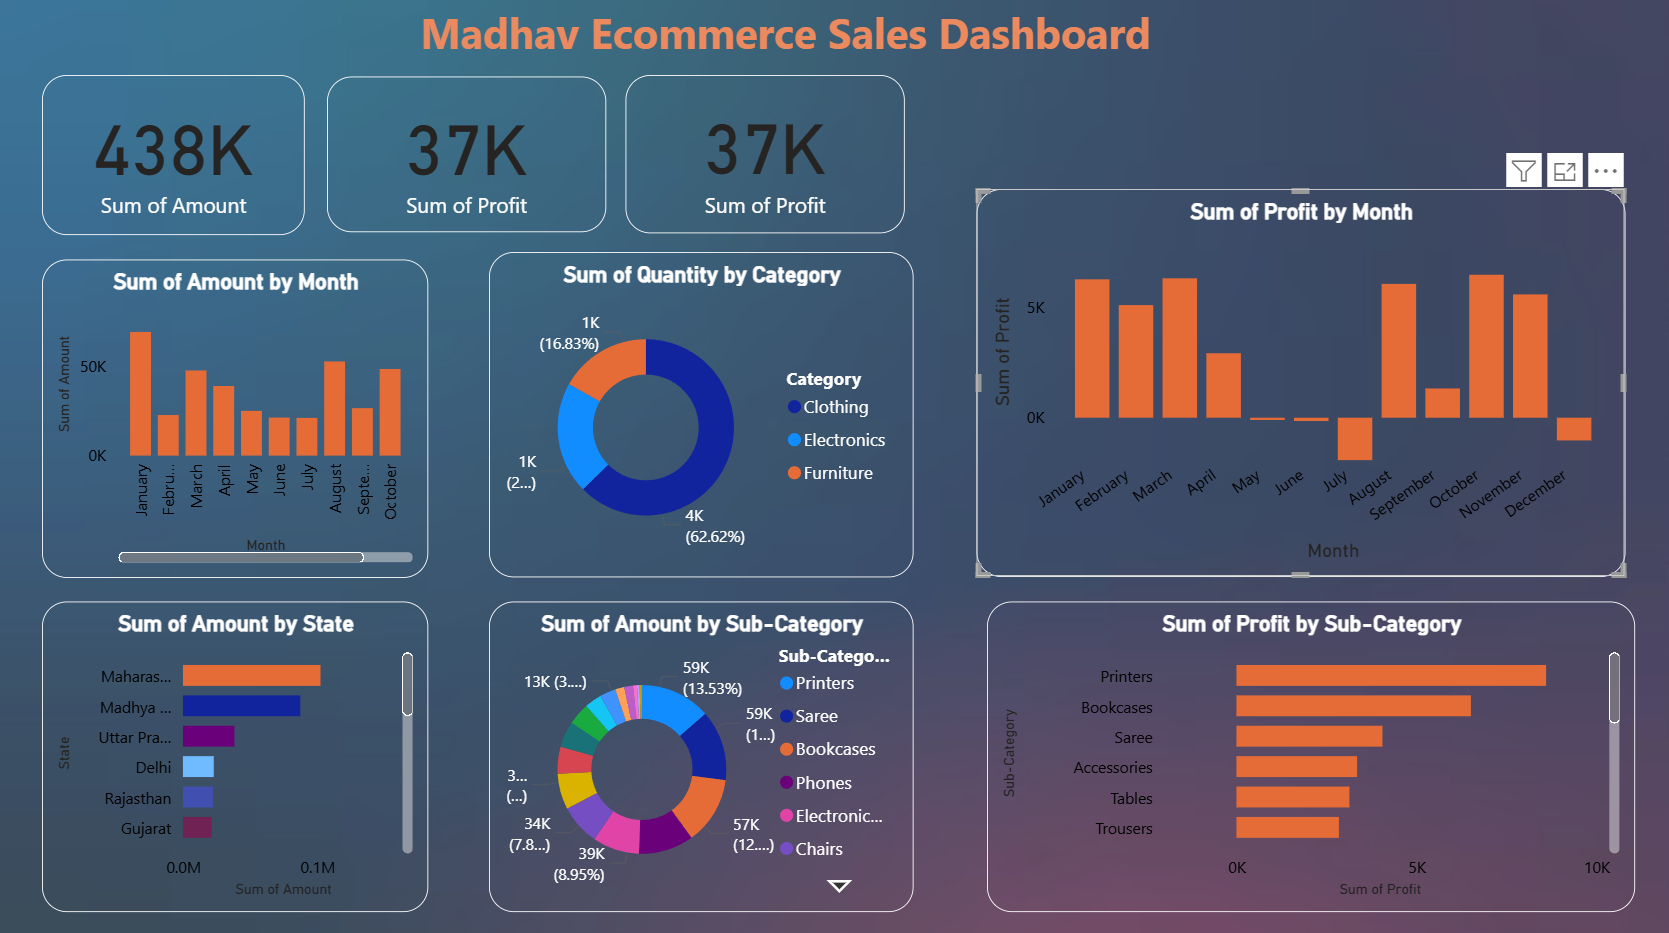

This screenshot's page, from the dashboard's own definition file:
{"tool":"powerbi","page":{"name":"Page 1","canvas":[1280,720],"ordinal":0},"visuals":[{"type":"textbox","box":[317,0,647.6,59.3],"z":0},{"type":"columnChart","fields":{"Y":["Details.Amount"],"Category":["Orders.Order Date.Variation.Date Hierarchy.Month"]},"box":[32.2,200.6,296.3,244.3],"z":1000},{"type":"card","fields":{"Values":["Details.Profit"]},"box":[479.2,59.3,214.1,121.6],"z":2000},{"type":"card","fields":{"Values":["Details.Amount"]},"box":[32.2,60.3,201.7,122.7],"z":3000},{"type":"card","fields":{"Values":["Details.Profit"]},"box":[250.5,61.3,214.1,119.5],"z":4000},{"type":"columnChart","fields":{"Y":["Details.Profit"],"Category":["Orders.Order Date.Variation.Date Hierarchy.Month"]},"box":[748,147,497,297],"z":5000},{"type":"clusteredBarChart","fields":{"Y":["Details.Profit"],"Category":["Details.Sub-Category"]},"box":[756.7,463.6,496.9,238],"z":6000},{"type":"donutChart","fields":{"Y":["Details.Quantity"],"Category":["Details.Category"]},"box":[375.3,195.4,325.4,249.5],"z":7000},{"type":"donutChart","fields":{"Y":["Details.Amount"],"Category":["Details.Sub-Category"]},"box":[375.3,463.6,325.4,238],"z":7001},{"type":"barChart","fields":{"Y":["Details.Amount"],"Category":["Orders.State"]},"box":[32.2,463.6,296.3,238],"z":7002}]}

Visuals, with their boxes in screenshot pixels (x1, y1, x2, y2), scaled from the page's 1280x720 canvas onto the 1669x933 screenshot:
textbox: 413/0/1258/77
columnChart - Details.Amount x Orders.Order Date.Variation.Date Hierarchy.Month: 42/260/428/577
card - Details.Profit: 625/77/904/234
card - Details.Amount: 42/78/305/237
card - Details.Profit: 327/79/606/234
columnChart - Details.Profit x Orders.Order Date.Variation.Date Hierarchy.Month: 975/190/1623/575
clusteredBarChart - Details.Profit x Details.Sub-Category: 987/601/1635/909
donutChart - Details.Quantity x Details.Category: 489/253/914/577
donutChart - Details.Amount x Details.Sub-Category: 489/601/914/909
barChart - Details.Amount x Orders.State: 42/601/428/909
